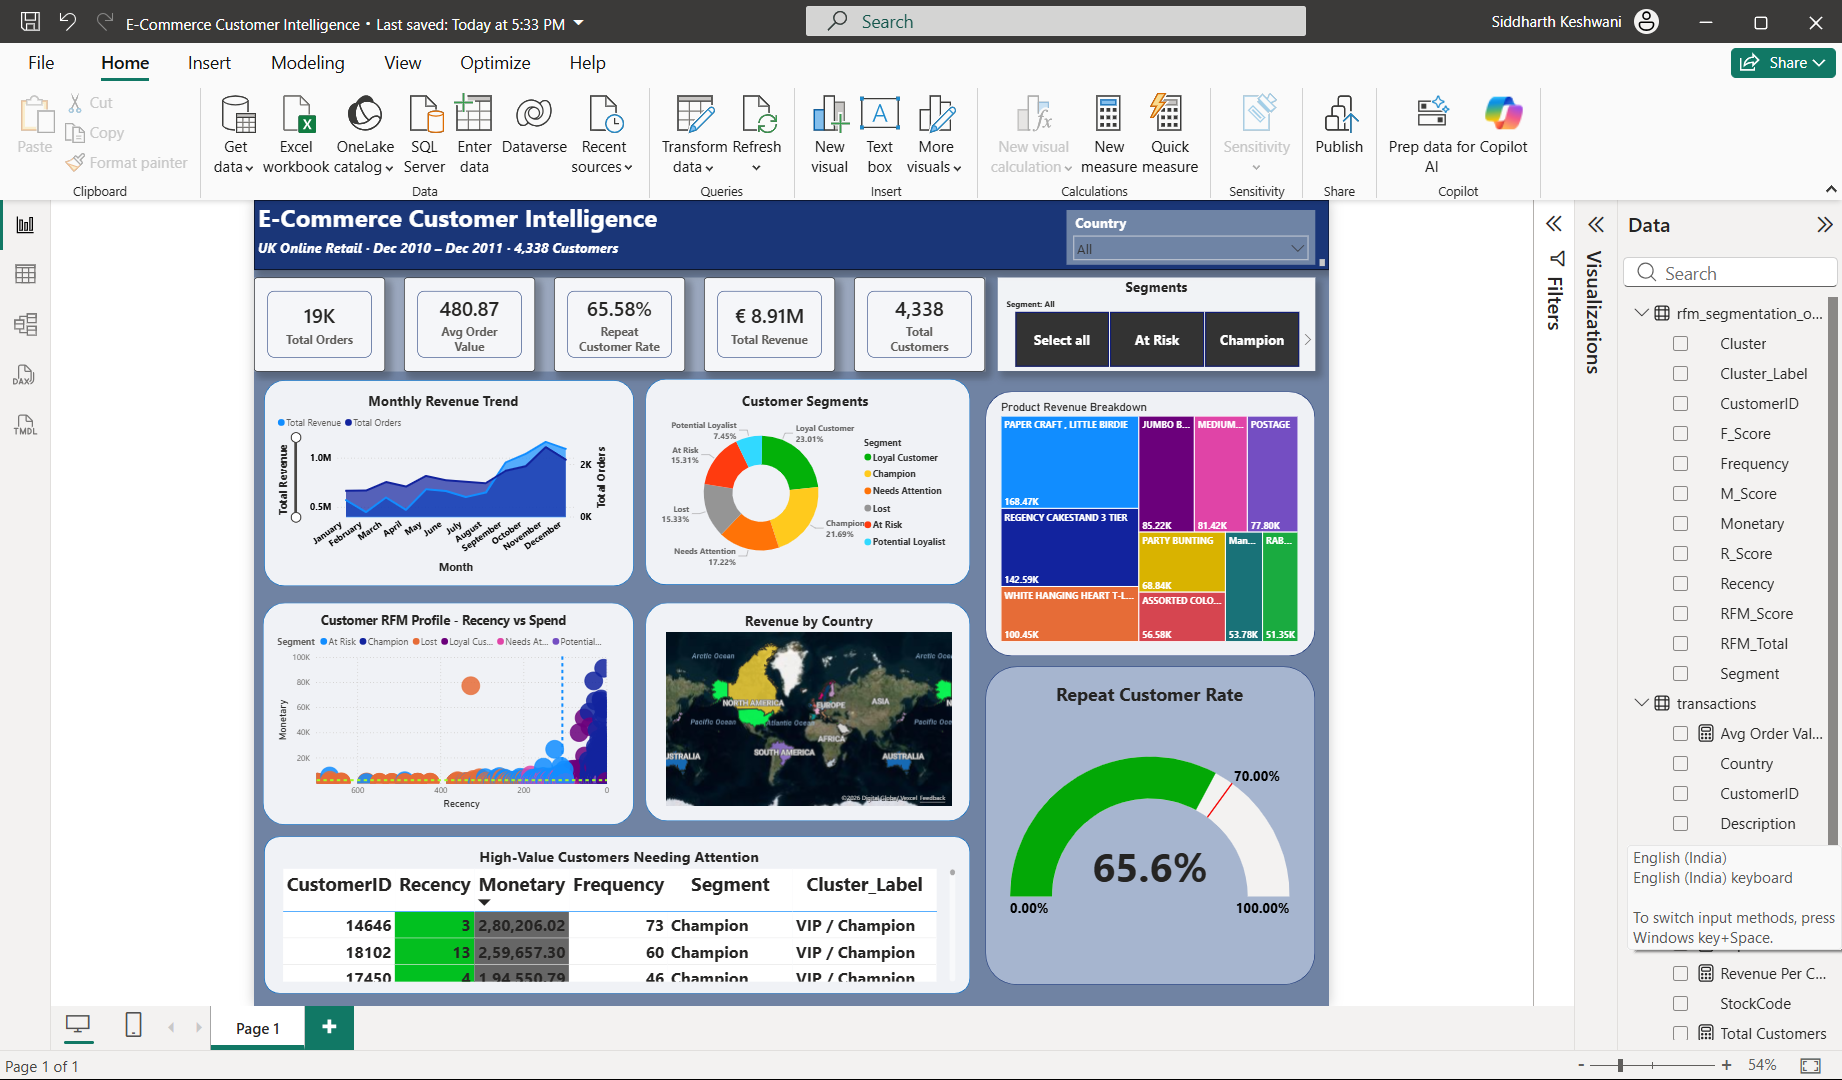

What the dashboard file says about the page in this screenshot:
{"tool":"powerbi","page":{"name":"Page 1","canvas":[1600,1200],"ordinal":0},"visuals":[{"type":"textbox","title":"E-Commerce Customer Intelligence","box":[0,0,1600.5,104.2],"z":0},{"type":"cardVisual","fields":{"Data":["transactions.Total Revenue"]},"box":[670.2,115.4,195.3,139.7],"z":0,"group":"g1"},{"type":"shape","box":[1088.7,284.7,491.3,394.5],"z":0,"group":"g8"},{"type":"group","id":"g1","title":"Group 1","box":[0,115.4,1088.7,139.6],"z":1000},{"type":"cardVisual","fields":{"Data":["transactions.Total Orders"]},"box":[0,115.4,195.3,139.7],"z":1000,"group":"g1"},{"type":"shape","box":[1088.7,694.2,491.3,474.6],"z":1000,"group":"g2"},{"type":"cardVisual","fields":{"Data":["transactions.Total Customers"]},"box":[893.6,115.4,195.3,139.7],"z":2000,"group":"g1"},{"type":"slicer","title":"Segments","fields":{"Values":["rfm_segmentation_output.Segment"]},"box":[1107.3,115.4,472.7,139.6],"z":2000},{"type":"shape","box":[14.9,947.3,1051.5,234.5],"z":2000,"group":"g7"},{"type":"slicer","fields":{"Values":["transactions.Country"]},"box":[1209.7,14.9,370.3,81.9],"z":3000},{"type":"cardVisual","fields":{"Data":["transactions.Avg Order Value"]},"box":[223.4,115.4,195.3,139.7],"z":3000,"group":"g1"},{"type":"shape","box":[582.5,266.1,483.9,307.1],"z":3000,"group":"g3"},{"type":"cardVisual","fields":{"Data":["transactions.Repeat Customer Rate"]},"box":[446.8,115.4,195.3,139.7],"z":4000,"group":"g1"},{"type":"shape","box":[582.5,599.3,483.9,325.7],"z":4000,"group":"g4"},{"type":"group","id":"g2","title":"Group 3","box":[1088.7,694.2,491.3,474.6],"z":4000},{"type":"group","id":"g3","title":"Group 4","box":[582.5,266.1,483.9,307.1],"z":5000},{"type":"shape","box":[13,599.3,552.7,331.3],"z":5000,"group":"g6"},{"type":"shape","box":[14.9,268,550.9,307.1],"z":6000,"group":"g5"},{"type":"group","id":"g4","title":"Group 5","box":[582.5,599.3,483.9,325.7],"z":6000},{"type":"group","id":"g5","title":"Group 6","box":[14.9,268,550.9,307.1],"z":7000},{"type":"group","id":"g6","title":"Group 7","box":[13,599.3,552.7,331.3],"z":8000},{"type":"areaChart","title":"Monthly Revenue Trend","fields":{"Category":["transactions.InvoiceDate.Variation.Date Hierarchy.Month"],"Y":["transactions.Total Revenue"],"Y2":["transactions.Total Orders"]},"box":[29.8,284.7,504.3,277.3],"z":9000,"group":"g5"},{"type":"group","id":"g7","title":"Group 8","box":[14.9,947.3,1051.5,234.5],"z":9000},{"type":"donutChart","title":"Customer Segments","fields":{"Category":["rfm_segmentation_output.Segment"],"Y":["CountNonNull(rfm_segmentation_output.CustomerID)"]},"box":[597.4,284.7,446.7,277.3],"z":10000,"group":"g3"},{"type":"group","id":"g8","title":"Group 2","box":[1088.7,284.7,491.3,394.5],"z":10000},{"type":"scatterChart","title":"Customer RFM Profile - Recency vs Spend","fields":{"Series":["rfm_segmentation_output.Segment"],"X":["rfm_segmentation_output.Recency"],"Y":["rfm_segmentation_output.Monetary"],"Size":["CountNonNull(rfm_segmentation_output.Frequency)"]},"box":[29.7,612.6,504.3,299.1],"z":11000,"group":"g6"},{"type":"tableEx","title":"High-Value Customers Needing Attention","fields":{"Values":["rfm_segmentation_output.CustomerID","rfm_segmentation_output.Recency","rfm_segmentation_output.Monetary","rfm_segmentation_output.Frequency","rfm_segmentation_output.Segment","rfm_segmentation_output.Cluster_Label"]},"box":[37.4,961.7,1012.4,206.6],"z":12000,"group":"g7"},{"type":"azureMap","title":"Revenue by Country","fields":{"Category":["transactions.Country"]},"box":[608.6,612.3,435.5,294],"z":13000,"group":"g4"},{"type":"treemap","title":"Product Revenue Breakdown","fields":{"Values":["transactions.Total Revenue"],"Group":["transactions.Description"]},"box":[1107.3,297.7,452.2,364.8],"z":16000,"group":"g8"},{"type":"gauge","fields":{"Y":["transactions.Repeat Customer Rate"]},"box":[1107.3,712.8,452.2,435.5],"z":17000,"group":"g2"}]}

Visuals, with their boxes on the page's 1600x1200 design canvas (x1, y1, x2, y2). These are canvas units, not pixel positions in the 1842x1080 screenshot, which may show the page scaled, cropped or inside an application window:
"E-Commerce Customer Intelligence" textbox: (x1=0, y1=0, x2=1600, y2=104)
cardVisual - transactions.Total Revenue: (x1=670, y1=115, x2=866, y2=255)
shape: (x1=1089, y1=285, x2=1580, y2=679)
"Group 1" group: (x1=0, y1=115, x2=1089, y2=255)
cardVisual - transactions.Total Orders: (x1=0, y1=115, x2=195, y2=255)
shape: (x1=1089, y1=694, x2=1580, y2=1169)
cardVisual - transactions.Total Customers: (x1=894, y1=115, x2=1089, y2=255)
"Segments" slicer: (x1=1107, y1=115, x2=1580, y2=255)
shape: (x1=15, y1=947, x2=1066, y2=1182)
slicer - transactions.Country: (x1=1210, y1=15, x2=1580, y2=97)
cardVisual - transactions.Avg Order Value: (x1=223, y1=115, x2=419, y2=255)
shape: (x1=582, y1=266, x2=1066, y2=573)
cardVisual - transactions.Repeat Customer Rate: (x1=447, y1=115, x2=642, y2=255)
shape: (x1=582, y1=599, x2=1066, y2=925)
"Group 3" group: (x1=1089, y1=694, x2=1580, y2=1169)
"Group 4" group: (x1=582, y1=266, x2=1066, y2=573)
shape: (x1=13, y1=599, x2=566, y2=931)
shape: (x1=15, y1=268, x2=566, y2=575)
"Group 5" group: (x1=582, y1=599, x2=1066, y2=925)
"Group 6" group: (x1=15, y1=268, x2=566, y2=575)
"Group 7" group: (x1=13, y1=599, x2=566, y2=931)
"Monthly Revenue Trend" areaChart: (x1=30, y1=285, x2=534, y2=562)
"Group 8" group: (x1=15, y1=947, x2=1066, y2=1182)
"Customer Segments" donutChart: (x1=597, y1=285, x2=1044, y2=562)
"Group 2" group: (x1=1089, y1=285, x2=1580, y2=679)
"Customer RFM Profile - Recency vs Spend" scatterChart: (x1=30, y1=613, x2=534, y2=912)
"High-Value Customers Needing Attention" tableEx: (x1=37, y1=962, x2=1050, y2=1168)
"Revenue by Country" azureMap: (x1=609, y1=612, x2=1044, y2=906)
"Product Revenue Breakdown" treemap: (x1=1107, y1=298, x2=1560, y2=662)
gauge - transactions.Repeat Customer Rate: (x1=1107, y1=713, x2=1560, y2=1148)
